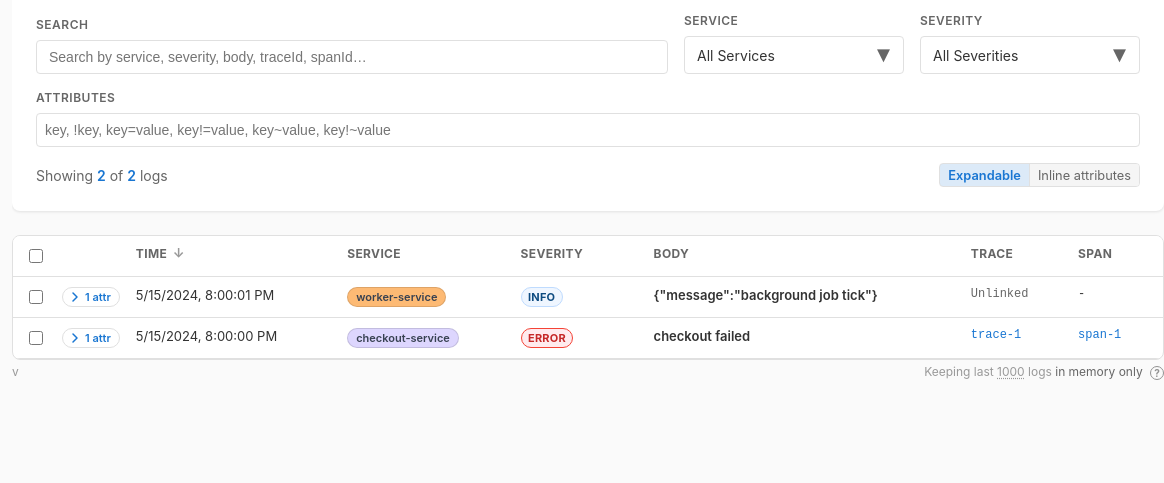
Test: Logs › clears filters from filtered empty state
Type "no-match" into the field named "Search logs" at (352, 57), box [36,40,668,74]
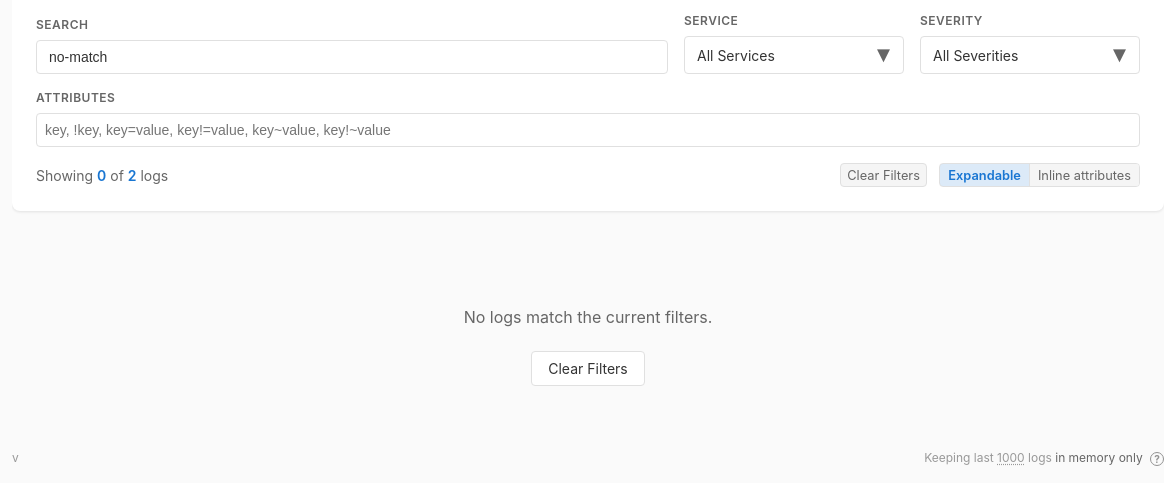
Result: the text "No logs match the current filters." is shown at [464,307,712,327]
Click the button "Clear Filters" below "No logs match the current filters." at (588, 368), box [531,351,645,386]
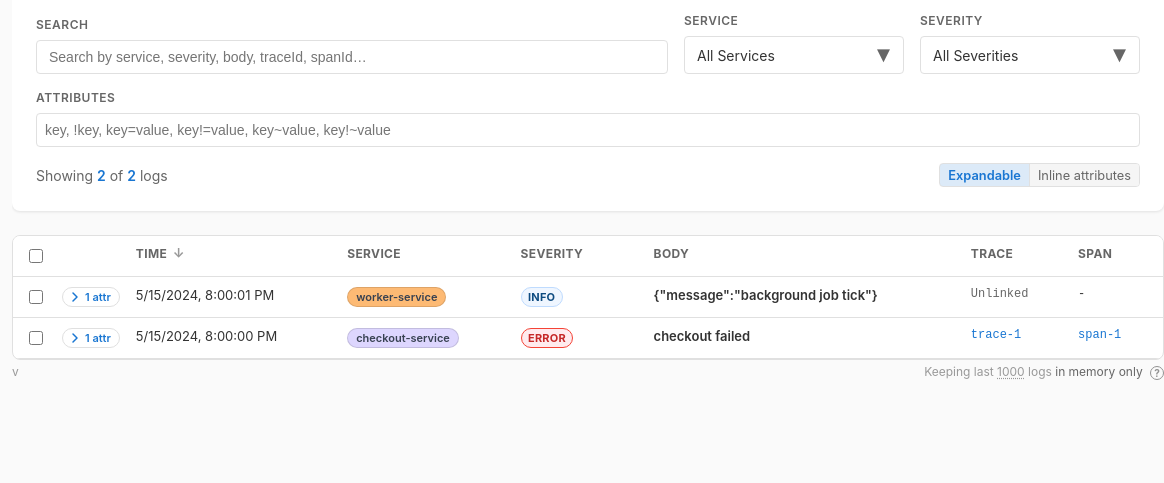
Result: the text "checkout failed" is shown at [642,318,959,358]
